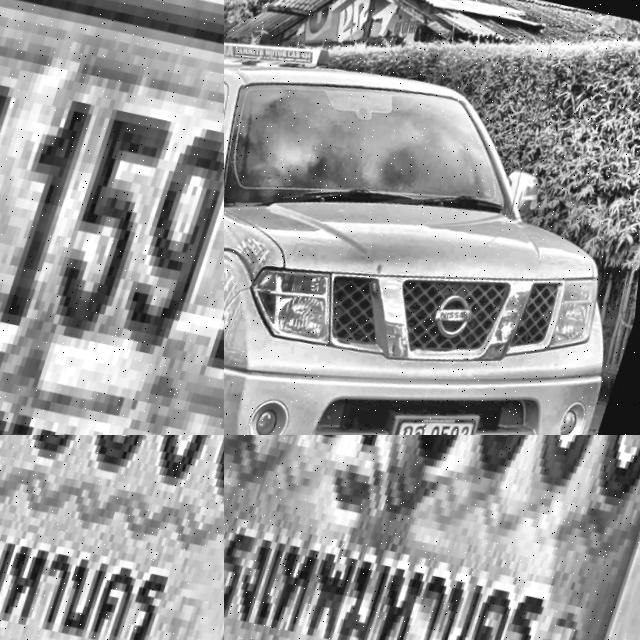license-plate: (0, 0, 224, 435), (224, 435, 640, 640), (0, 435, 224, 640), (379, 396, 495, 435)
